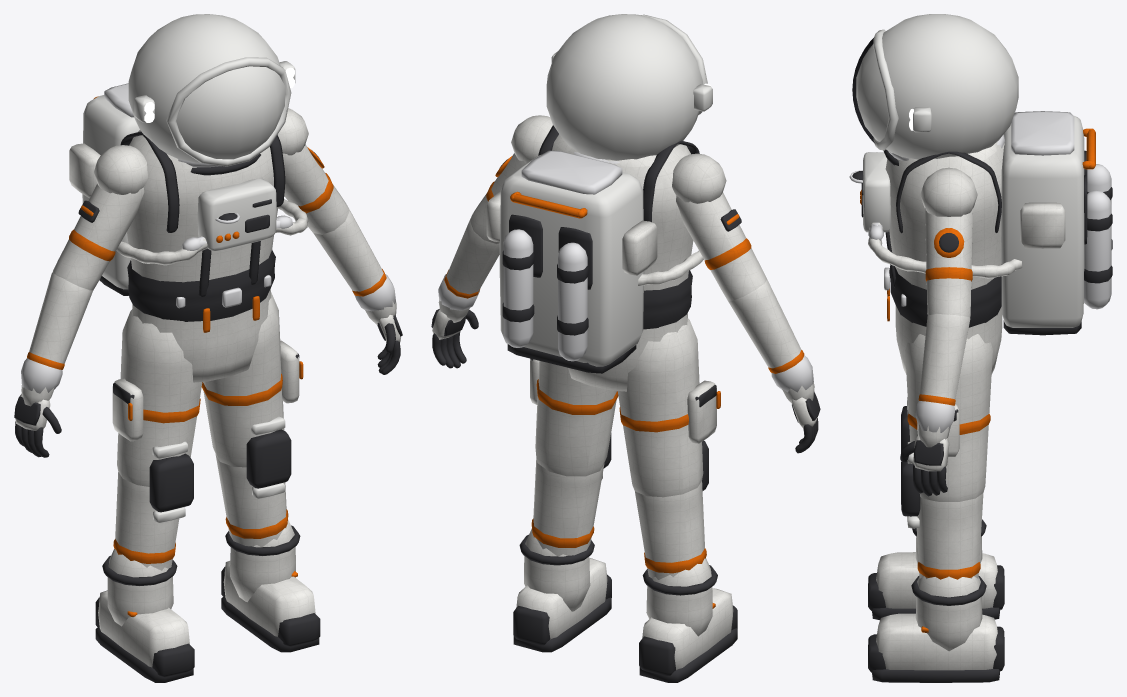
The model's file is AstronautEVA_static_original.glb.
3 views of the same model, side by side, from view 1: azimuth 30°, elevation 25°; view 2: azimuth 150°, elevation 25°; view 3: azimuth 270°, elevation 25° (orthographic).
Visible parts, largest first — view 1: Astronaut_Mesh; view 2: Astronaut_Mesh; view 3: Astronaut_Mesh.
Boxes of the visible parts, x1,y1,x2,y2 form: Astronaut_Mesh: [14, 14, 402, 682]; Astronaut_Mesh: [431, 14, 820, 682]; Astronaut_Mesh: [849, 14, 1112, 682].
Size of the model in its own units: 1.16 by 1.8 by 0.6899.
Materials: 7 (2 with a texture image).
